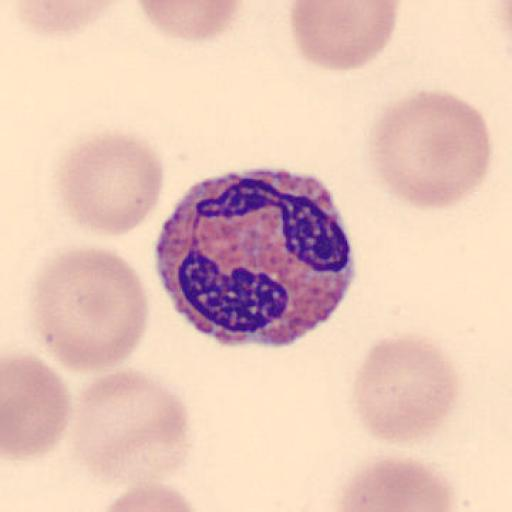RBC: (28, 243, 150, 375), (72, 367, 194, 495), (367, 88, 493, 211), (349, 329, 463, 447), (56, 128, 166, 238), (287, 0, 400, 73), (2, 350, 73, 462), (330, 453, 459, 512), (8, 0, 126, 41), (131, 0, 245, 42), (95, 484, 205, 512)
WBC: (153, 165, 359, 348)
